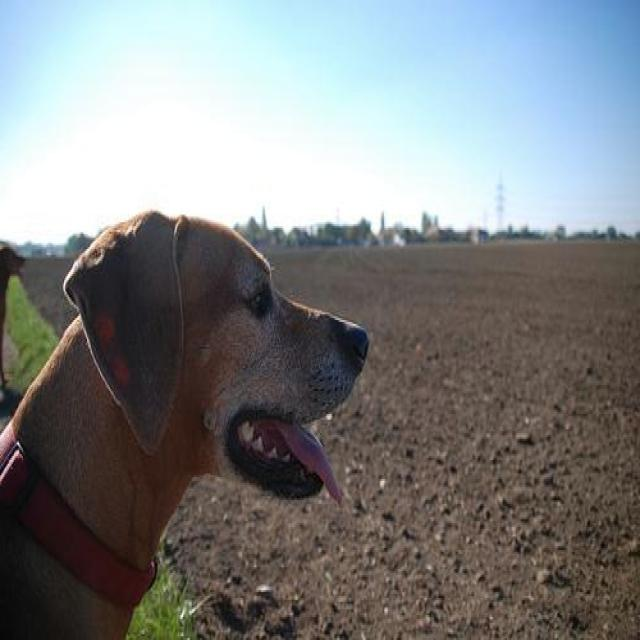rhodesian_ridgeback: (1, 207, 374, 638)
